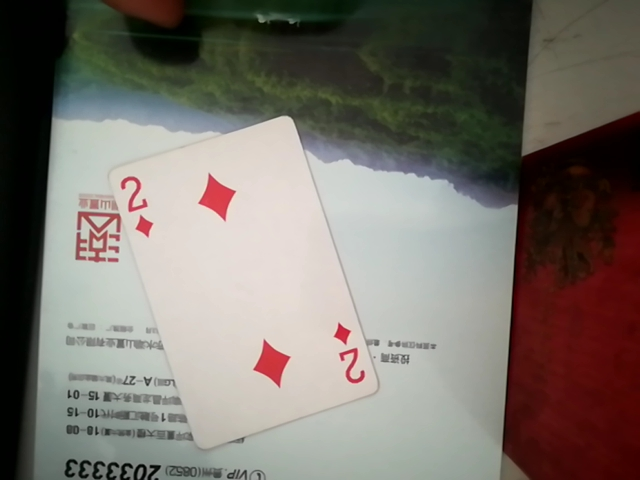fk 2: (93, 94, 377, 459)
